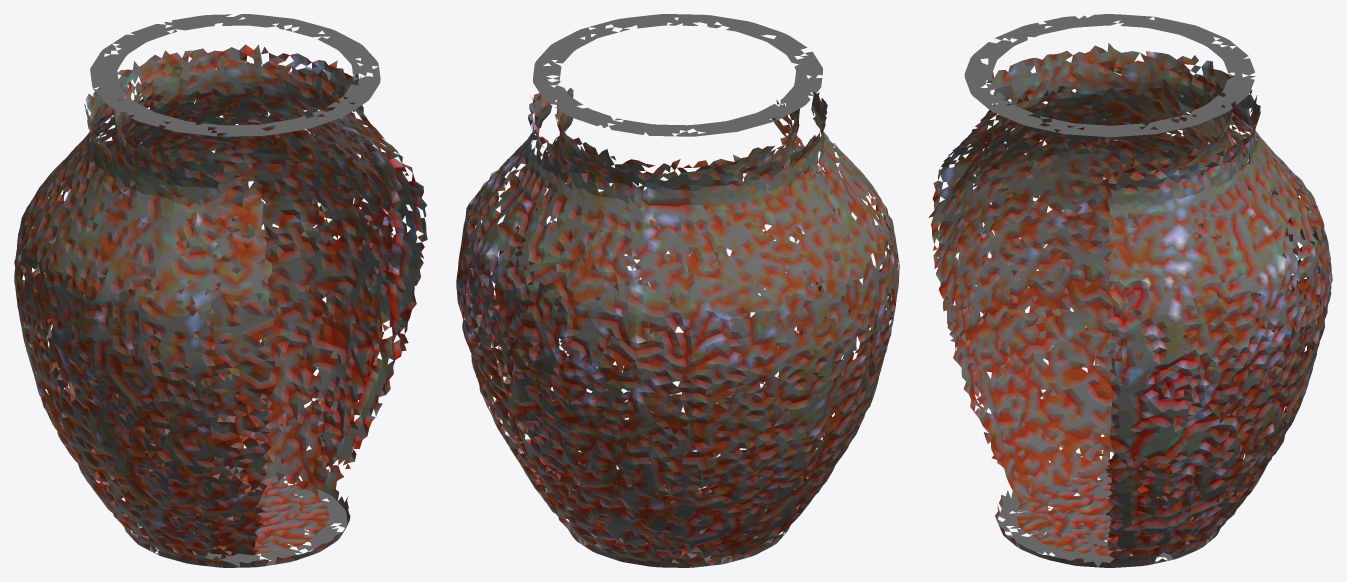
The model's file is vase_final300.obj.
3 views of the same model, side by side, from view 1: azimuth 30°, elevation 25°; view 2: azimuth 150°, elevation 25°; view 3: azimuth 270°, elevation 25° (orthographic).
Bounding box in the file's own units: 1.53 × 1.69 × 1.4.
